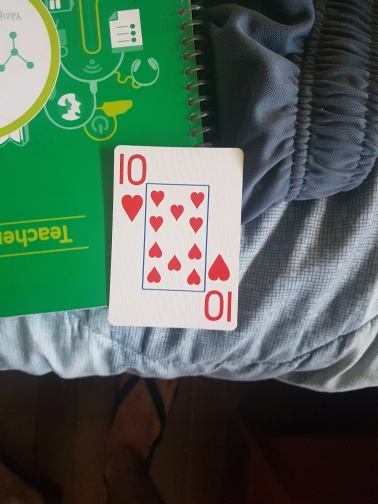ten: (107, 143, 243, 328)
